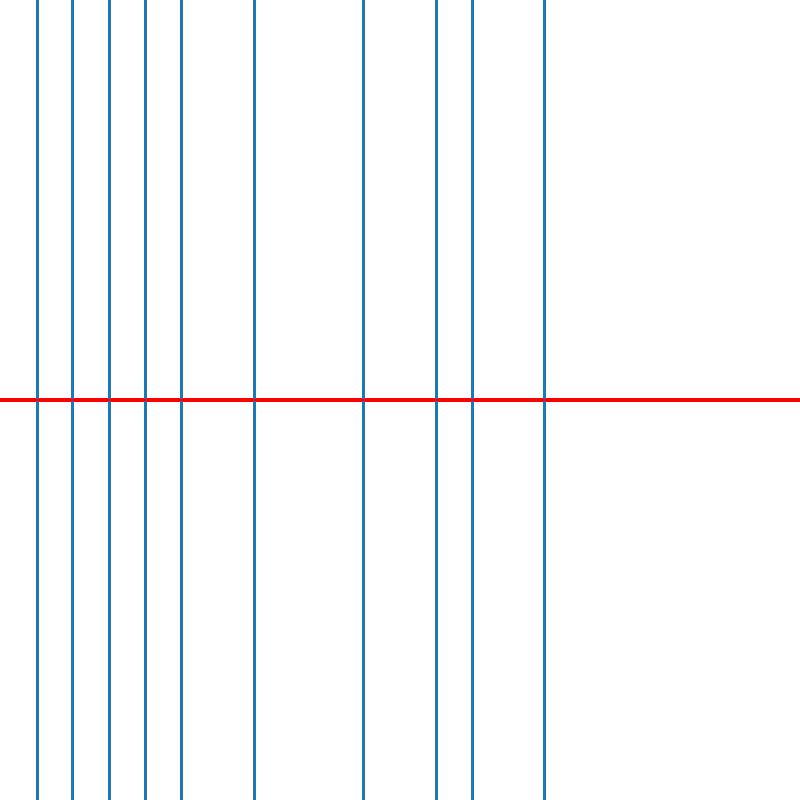root: (32, 396, 40, 404), (541, 396, 549, 404), (141, 396, 149, 404), (432, 396, 440, 404), (250, 396, 258, 404), (69, 396, 76, 404), (360, 396, 367, 404), (178, 396, 185, 404), (105, 396, 112, 404), (469, 396, 476, 404)
